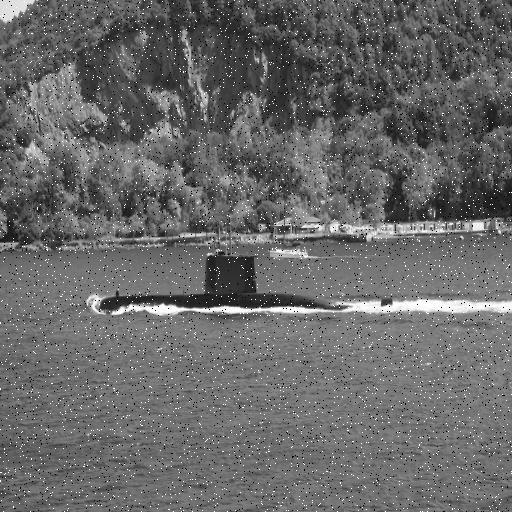submarine: (99, 220, 394, 315)
